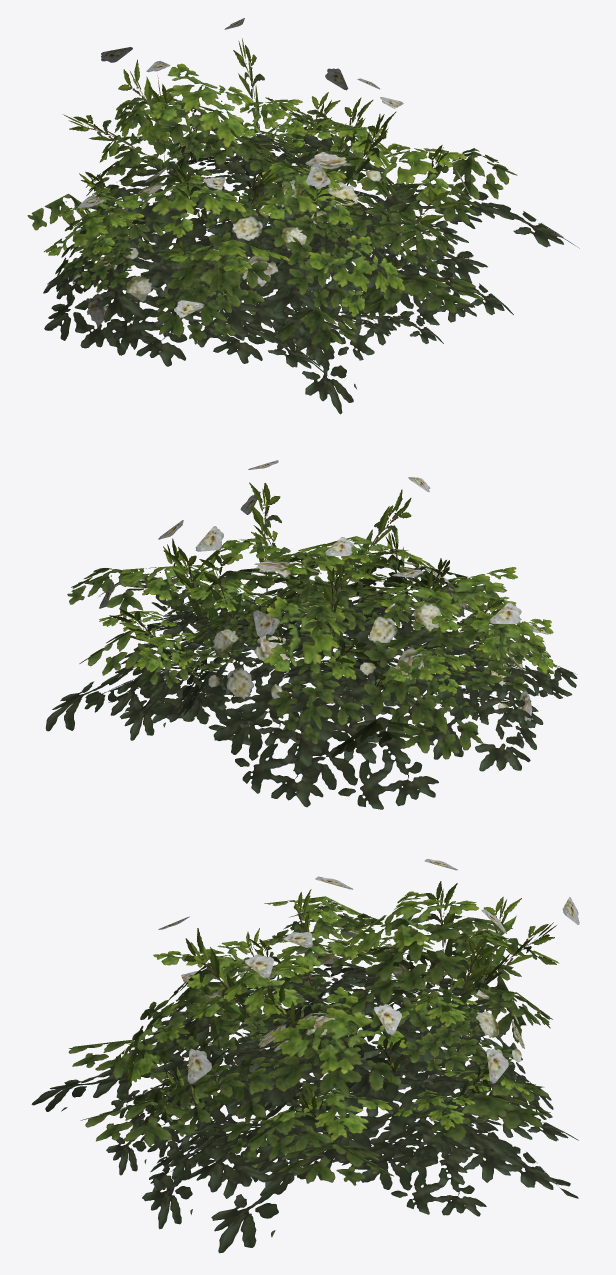
The model's file is c_yamen_zhiwu03_zw.FBX.
3 renders of one model, top to bottom at view 1: azimuth 30°, elevation 25°; view 2: azimuth 150°, elevation 25°; view 3: azimuth 270°, elevation 25°, orthographic. The views are drawn at different scales.
Visible parts, largest first — view 1: c_yamen_zhiwu03_zw_01A; view 2: c_yamen_zhiwu03_zw_01A; view 3: c_yamen_zhiwu03_zw_01A.
Part boxes in pixels (left/top/right/bottom): c_yamen_zhiwu03_zw_01A: left=27, top=18, right=579, bottom=414; c_yamen_zhiwu03_zw_01A: left=45, top=460, right=577, bottom=809; c_yamen_zhiwu03_zw_01A: left=31, top=859, right=579, bottom=1253.
Bounding box in the file's own units: 106 × 49.74 × 98.2.
